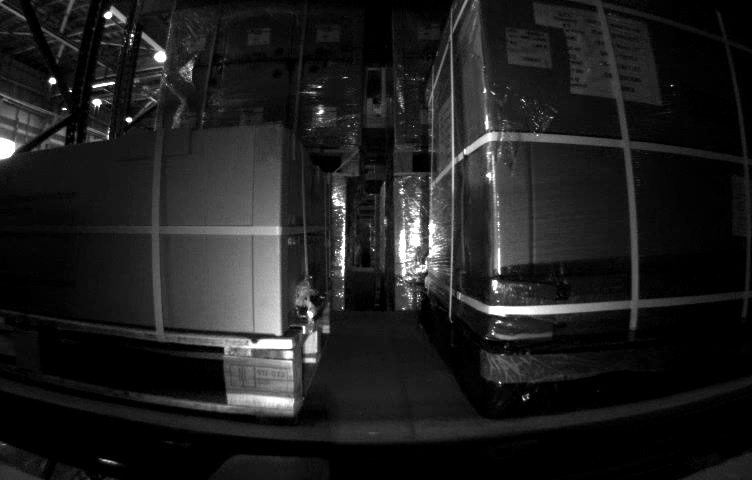True Barcode: (503, 24, 552, 67)
